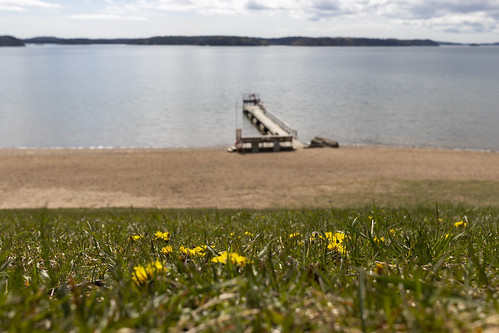grass: (5, 209, 499, 333)
sea: (6, 49, 499, 144)
sky: (1, 1, 498, 39)
